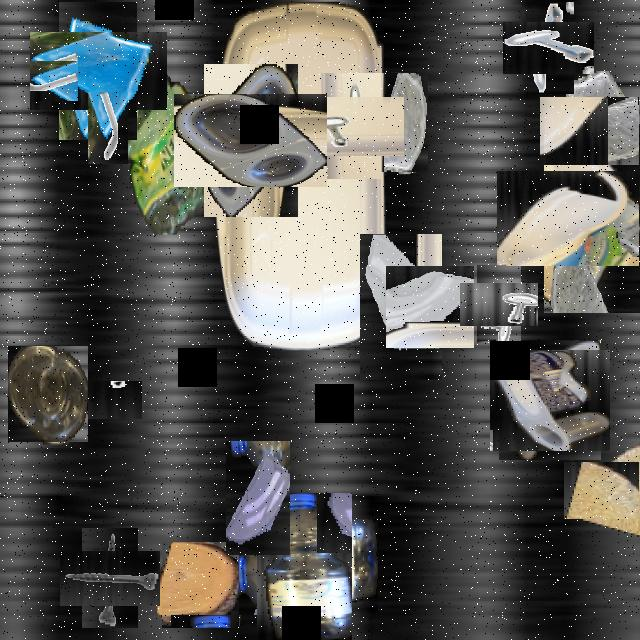glass: (344, 250, 458, 364), (44, 17, 152, 125), (552, 84, 640, 178), (226, 441, 290, 555), (372, 73, 428, 172)
metal: (310, 84, 392, 168), (71, 539, 149, 617), (512, 12, 584, 84), (468, 274, 530, 334), (88, 92, 128, 164), (82, 374, 134, 426)
plastic: (214, 2, 386, 350), (84, 21, 214, 235), (520, 147, 640, 289), (189, 79, 313, 202), (243, 506, 365, 628), (494, 344, 606, 456), (8, 347, 88, 442)
wood: (159, 544, 241, 626), (573, 452, 640, 528)
